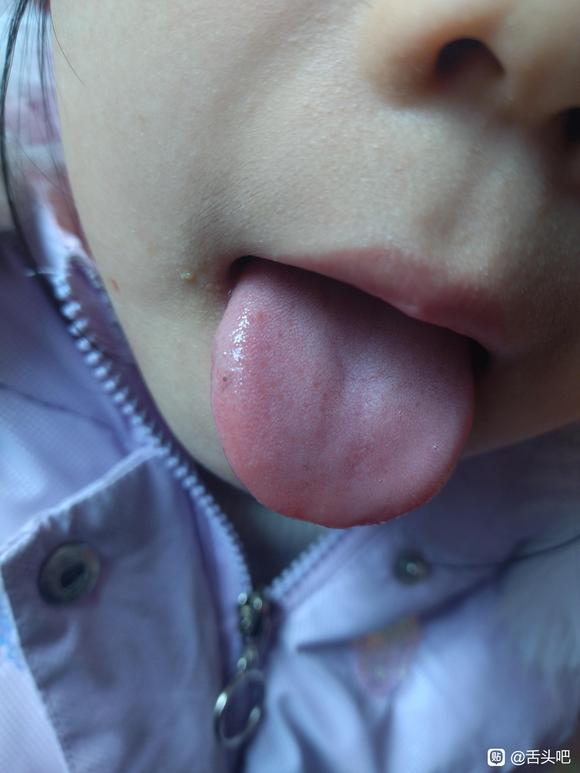baitaishe: (210, 262, 477, 528)
